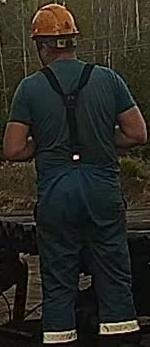helmet: (29, 3, 80, 39)
